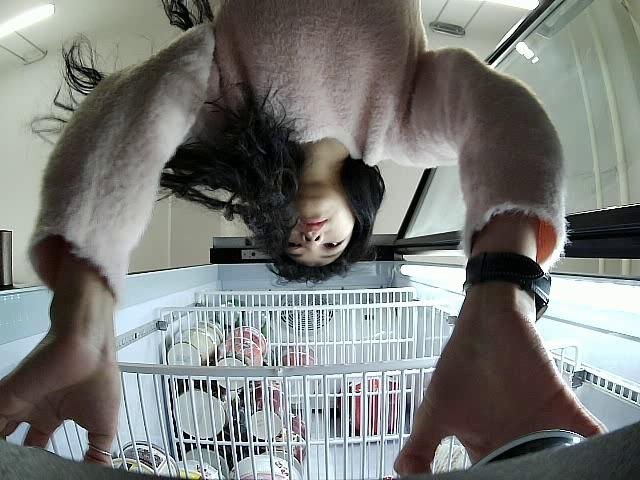00_hand: (391, 326, 610, 480), (2, 303, 124, 476)
